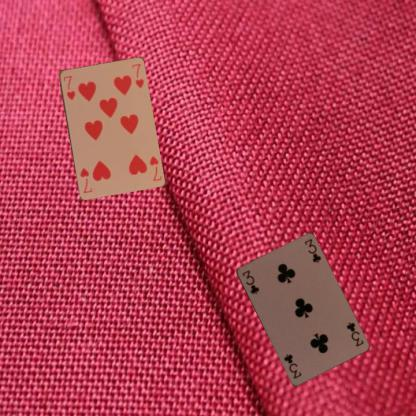3c: (239, 267, 260, 296), (344, 319, 364, 348)
7h: (147, 153, 162, 182), (61, 73, 76, 101)
